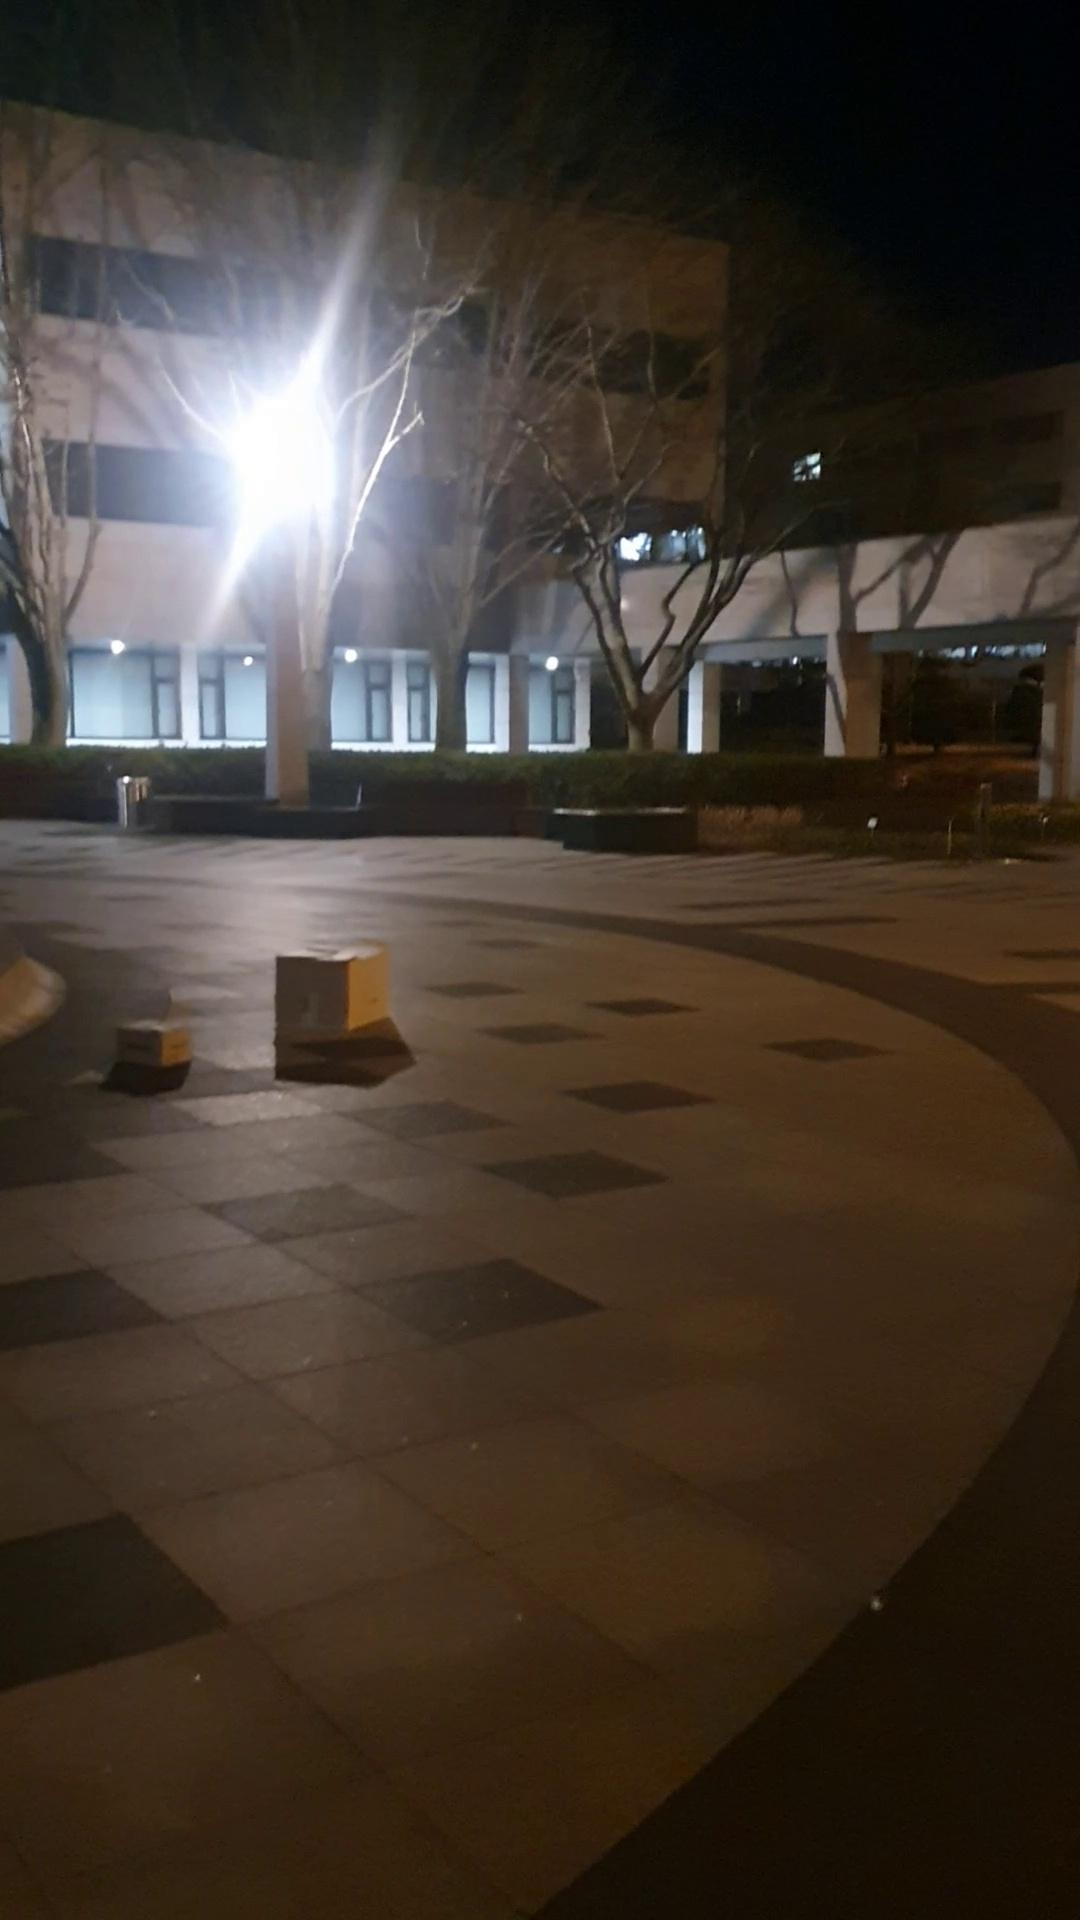Box: (268, 930, 392, 1060), (113, 1021, 185, 1075)
